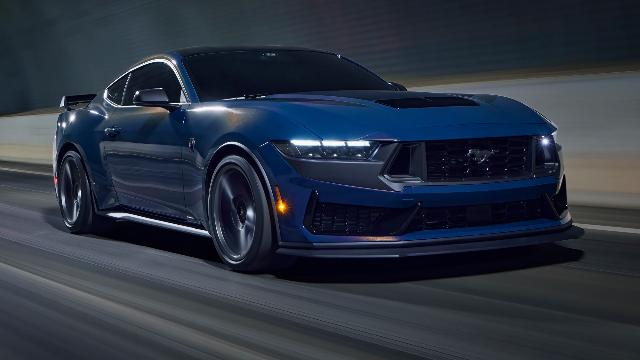ford-mustang: (52, 44, 586, 272)
